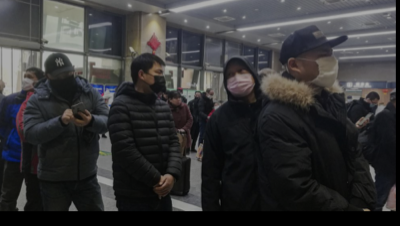with_mask: (302, 46, 338, 88), (224, 66, 254, 96), (47, 71, 75, 93), (146, 66, 166, 93), (20, 71, 35, 89), (368, 99, 378, 108), (213, 103, 220, 110), (207, 91, 213, 99)
without_mask: (172, 95, 181, 105)
